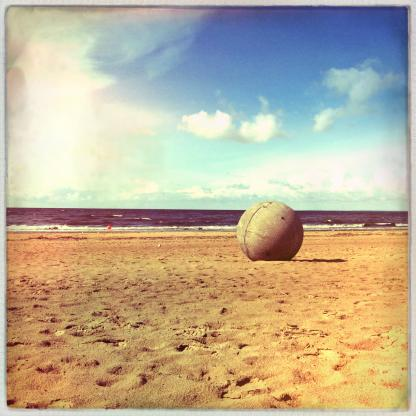Ball: (236, 201, 303, 262)
